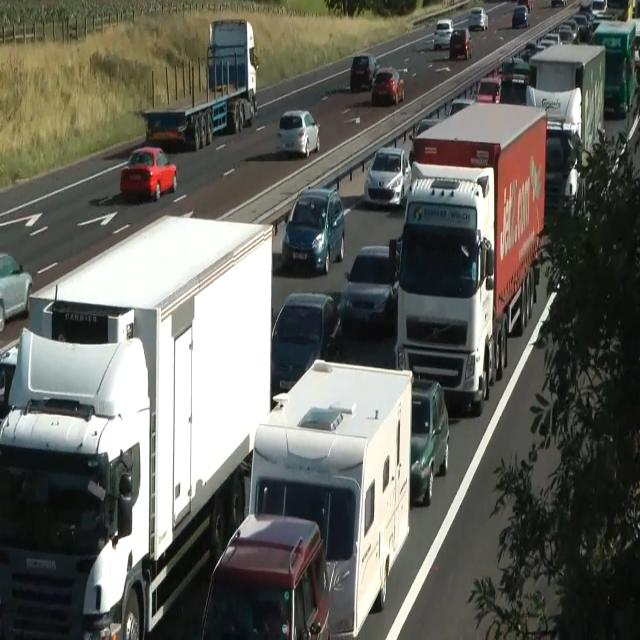bus: (270, 291, 342, 398), (282, 186, 344, 274), (338, 244, 398, 332), (409, 378, 449, 506), (545, 123, 579, 217), (120, 146, 178, 201), (364, 146, 411, 208), (0, 252, 32, 332), (277, 109, 320, 158), (371, 66, 405, 105), (0, 343, 18, 415), (350, 54, 380, 92), (497, 56, 530, 85), (449, 26, 473, 60), (498, 78, 528, 105), (409, 118, 440, 142), (474, 77, 500, 103), (433, 18, 453, 50), (572, 12, 592, 42), (557, 18, 580, 44), (518, 42, 544, 64), (447, 98, 475, 118), (468, 7, 488, 31), (512, 4, 530, 28), (539, 31, 558, 48), (591, 0, 607, 17), (517, 0, 533, 10), (551, 0, 567, 7)
car: (0, 313, 150, 637), (391, 172, 497, 415)
jeep: (199, 511, 331, 638)
minibus: (0, 212, 274, 639), (247, 358, 413, 638), (408, 100, 547, 376), (141, 18, 259, 150), (526, 42, 606, 218), (207, 18, 259, 116), (591, 19, 637, 118)
